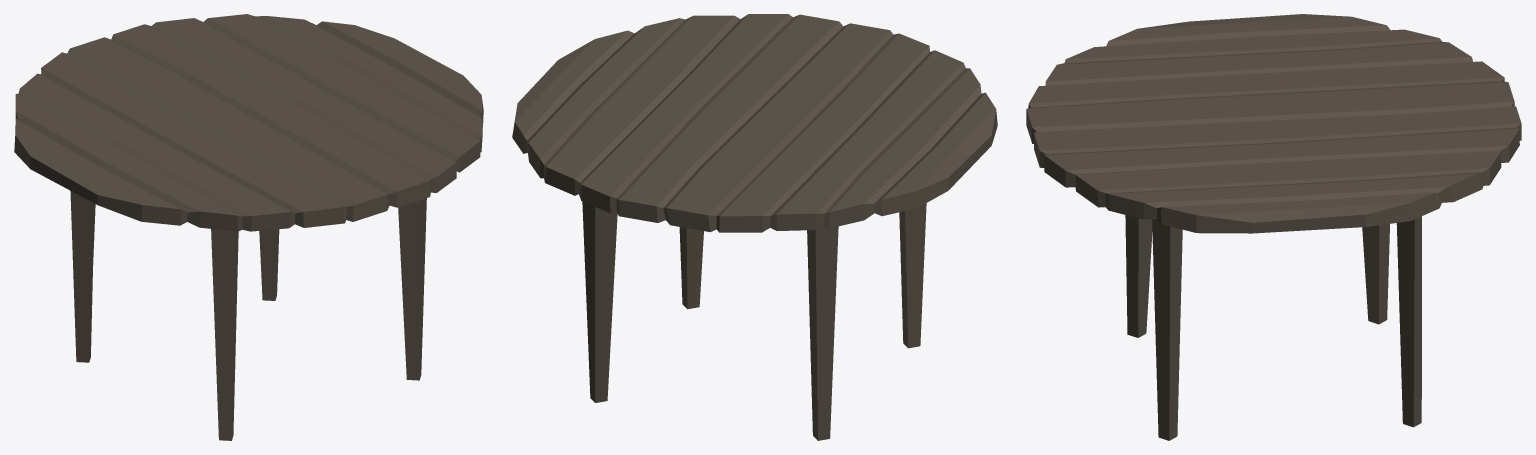
File: table.obj
The picture shows the model from 3 angles, left to right: view 1: azimuth 30°, elevation 25°; view 2: azimuth 150°, elevation 25°; view 3: azimuth 270°, elevation 25°; orthographic projection. The views are drawn at different scales.
Parts seen in each view (by area): view 1: SM_Prop_Table_3_SM_Prop_Table_01; view 2: SM_Prop_Table_3_SM_Prop_Table_01; view 3: SM_Prop_Table_3_SM_Prop_Table_01.
Boxes of the visible parts, bbox=[...] form: SM_Prop_Table_3_SM_Prop_Table_01: bbox=[14, 14, 483, 440]; SM_Prop_Table_3_SM_Prop_Table_01: bbox=[512, 14, 997, 440]; SM_Prop_Table_3_SM_Prop_Table_01: bbox=[1026, 14, 1521, 440].
Bounding box in the file's own units: 1.52 × 0.9008 × 1.54.
